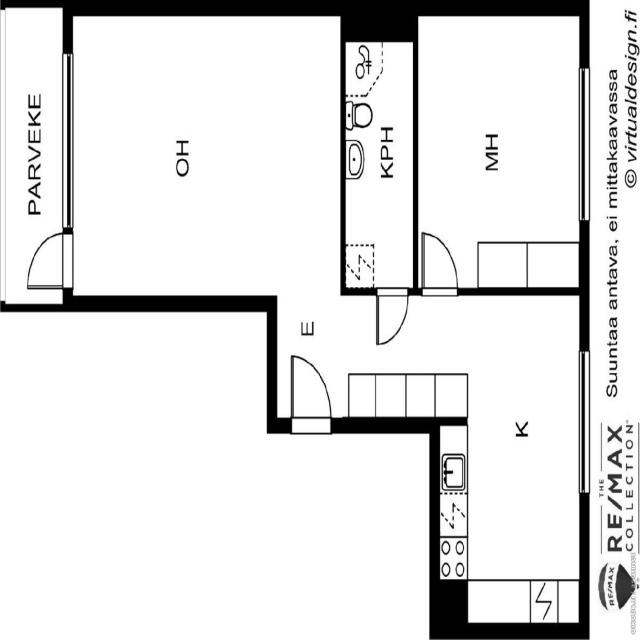door: (68, 12, 342, 297), (342, 34, 416, 294), (336, 286, 428, 366), (284, 350, 339, 436), (417, 226, 463, 296), (373, 286, 410, 346)
window: (573, 65, 595, 228), (59, 45, 77, 239), (574, 347, 594, 497)
zone: (415, 11, 586, 296), (442, 298, 586, 619), (274, 297, 441, 424), (344, 34, 416, 291), (21, 226, 74, 289)
